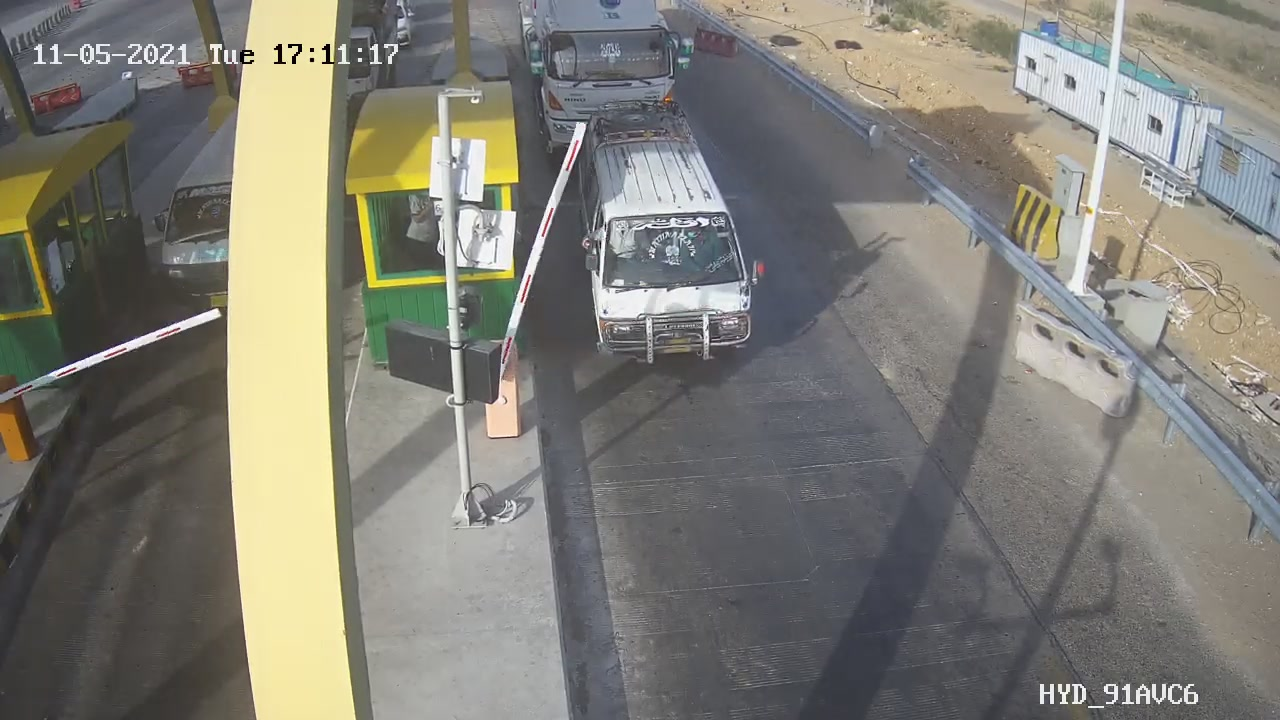F2: (553, 81, 786, 383)
